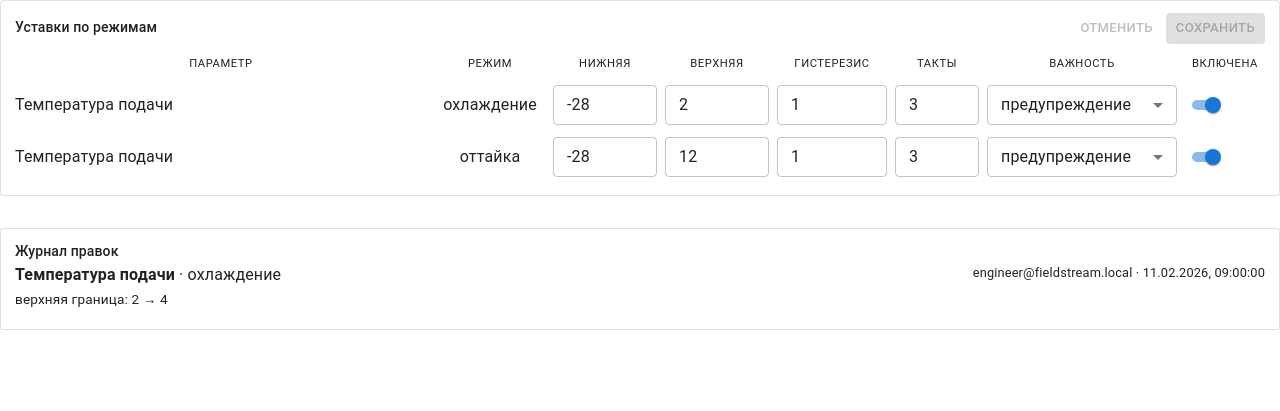
it: уставки прибора › правка уезжает одним запросом и только тронутой строкой
Replace the text in the number field named "гистерезис supply_temp_c cooling" with "2". click: {"x": 832, "y": 104}
box: [777,84,887,124]
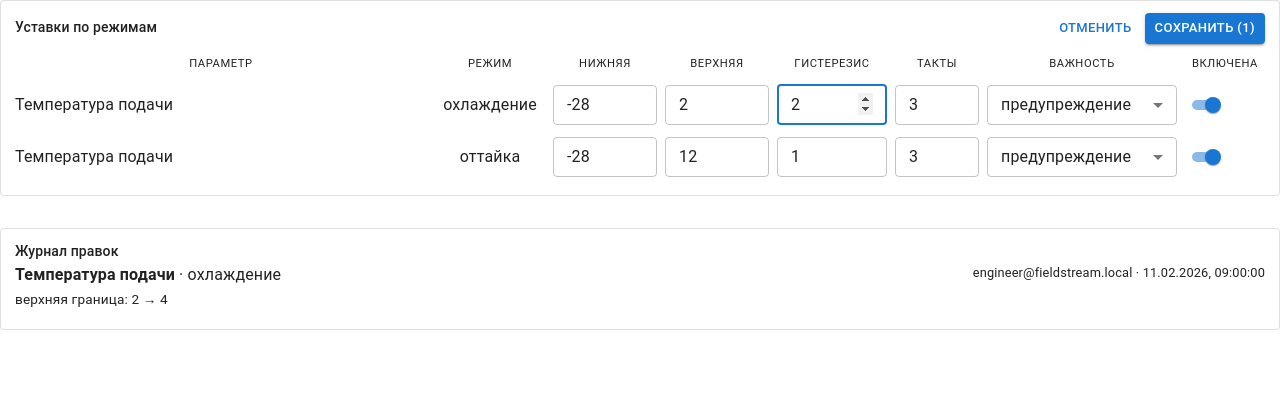
Click the button "Сохранить (1)". click: {"x": 1205, "y": 28}
box: [1145,13,1265,44]
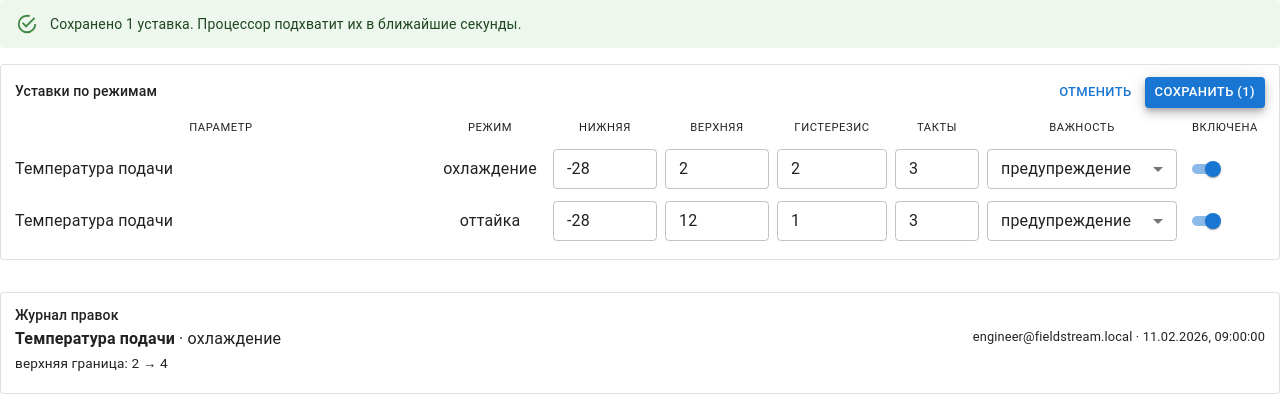
Check: the text "Сохранено 1 уставка" is shown, box [50,16,522,32]
